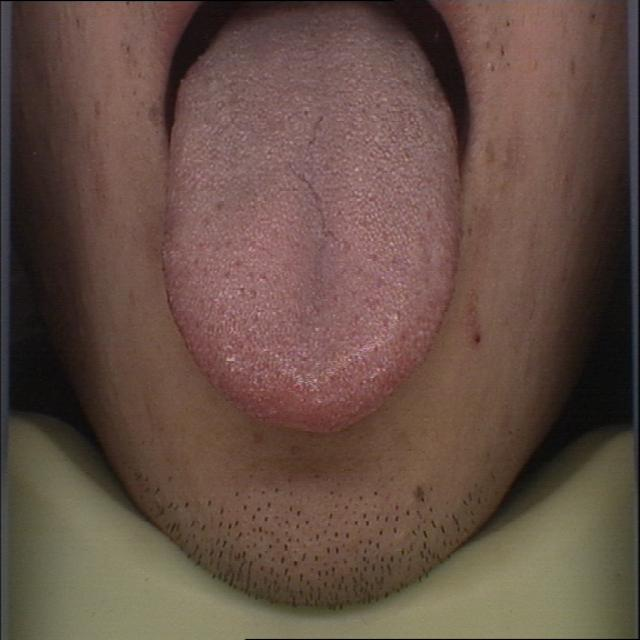tongue: (160, 2, 470, 436)
